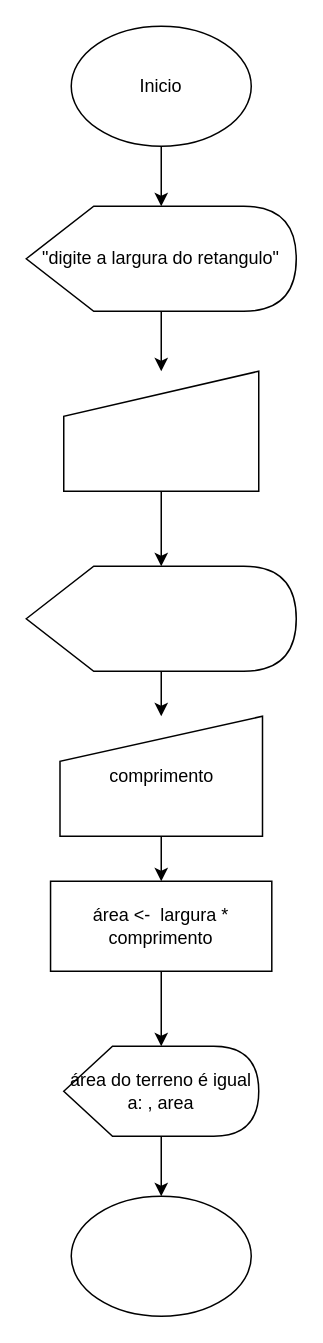
Some shapes in this 323 by 1343 pixel diagram are drawn without their labels. Each missing label, with the centre of its shape:
"digite o comprimento do retangulo": [160,618]
Fim: [160,1255]
largura: [160,430]
